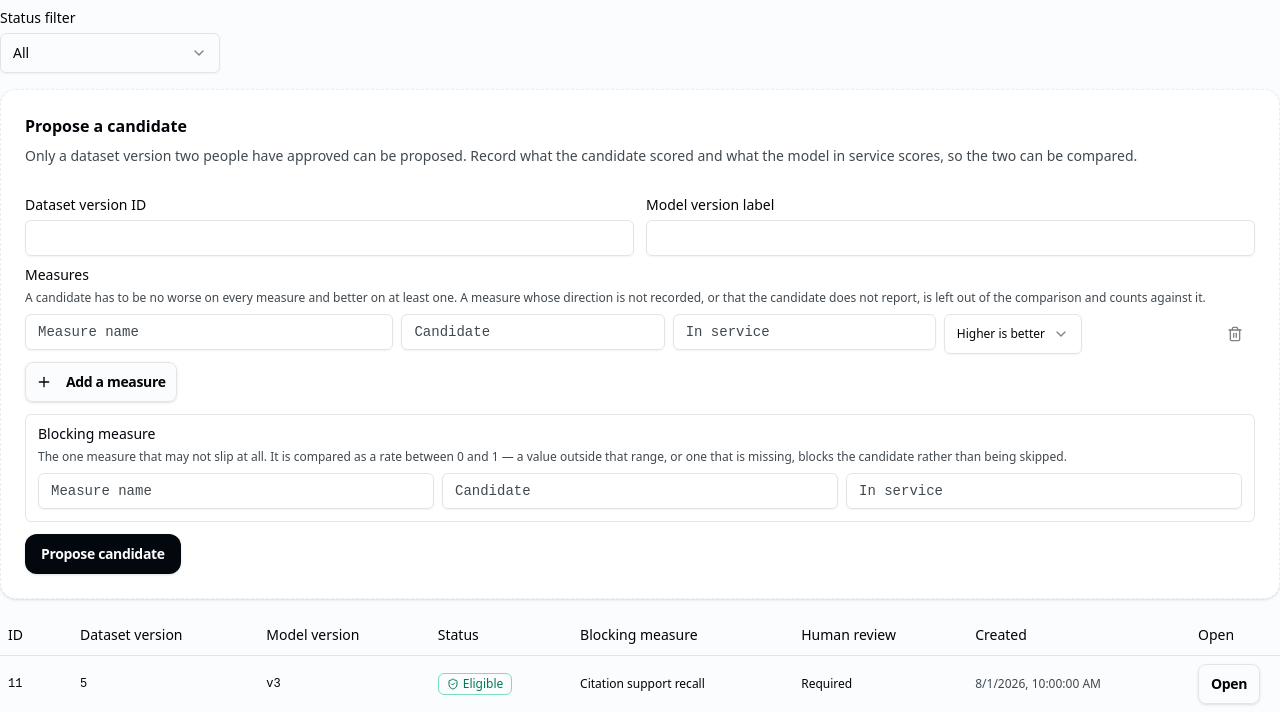
Scenario: KnowledgeDeploymentConveyor › does not offer promotion straight off a passed check
The image size is (1280, 712).
(page scrolled)
Click the button "Open".
click(1229, 684)  # box [1198,664,1260,704]
(page scrolled)
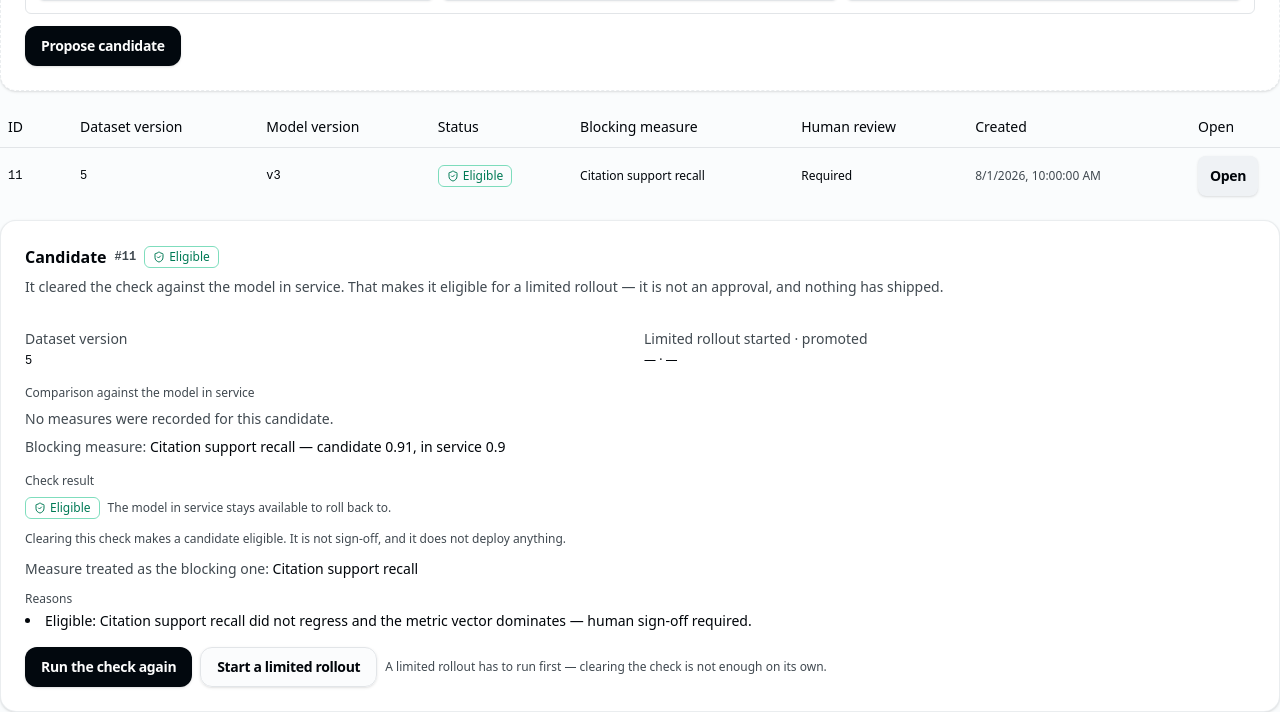
Expected: the button "Start a limited rollout" is shown, [200,646,377,686]
Expected: the text "not sign-off" is shown, [25,530,566,546]
